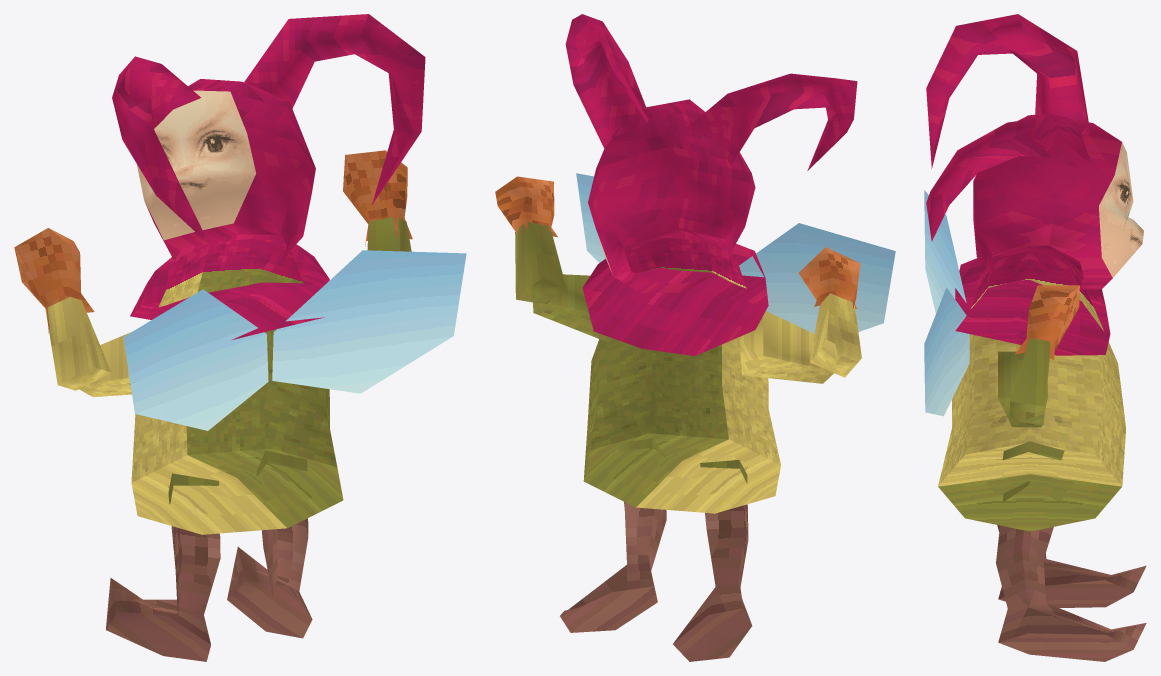
Rendered from ps2_save-icons_lunaticdawntempest.glb.
The picture shows the model from 3 angles, left to right: view 1: azimuth 30°, elevation 25°; view 2: azimuth 150°, elevation 25°; view 3: azimuth 270°, elevation 25°; orthographic projection. The views are drawn at different scales.
Parts seen in each view (by area): view 1: ICON.ICO; view 2: ICON.ICO; view 3: ICON.ICO.
Boxes of the visible parts, x1=… form: ICON.ICO: x1=14, y1=14, x2=466, y2=661; ICON.ICO: x1=495, y1=14, x2=895, y2=661; ICON.ICO: x1=924, y1=14, x2=1146, y2=661.
Bounding box in the file's own units: 3.23 × 4.8 × 1.76.
Materials: 1 (1 with a texture image).
